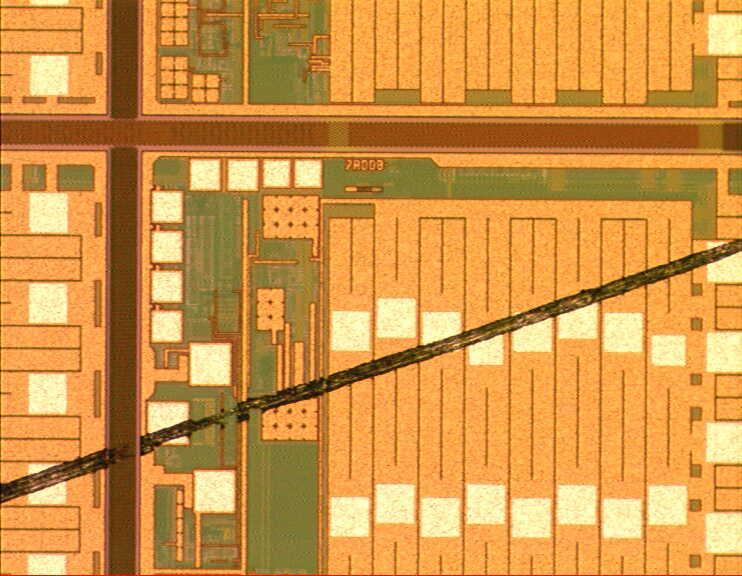SCRATCH: (1, 237, 742, 511)
